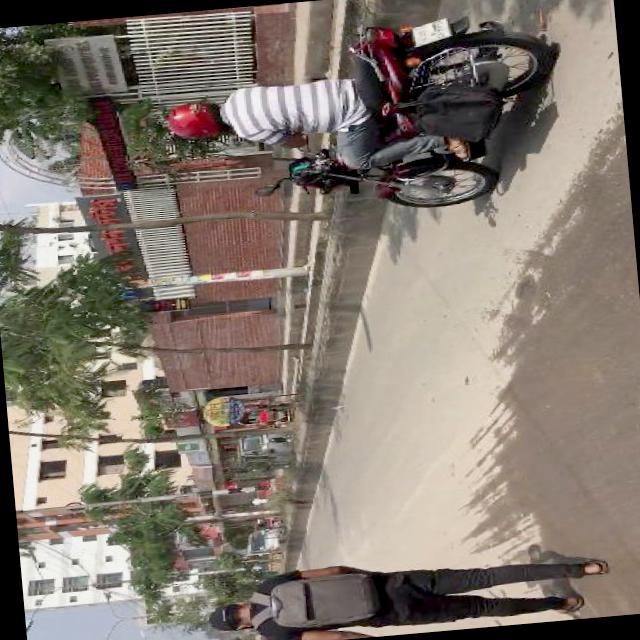motorcycle: (159, 11, 570, 232), (230, 395, 294, 430), (236, 432, 290, 472)
truck: (244, 528, 284, 558)
